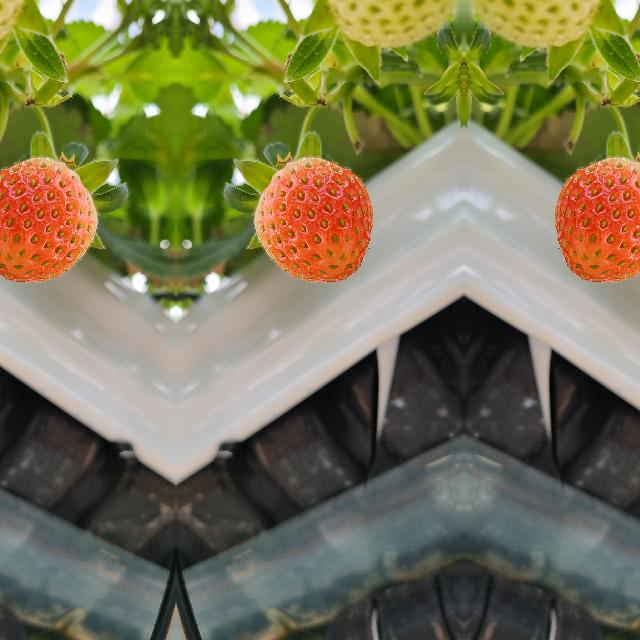Health_100: (252, 157, 372, 281), (0, 157, 97, 281), (554, 157, 640, 281)
